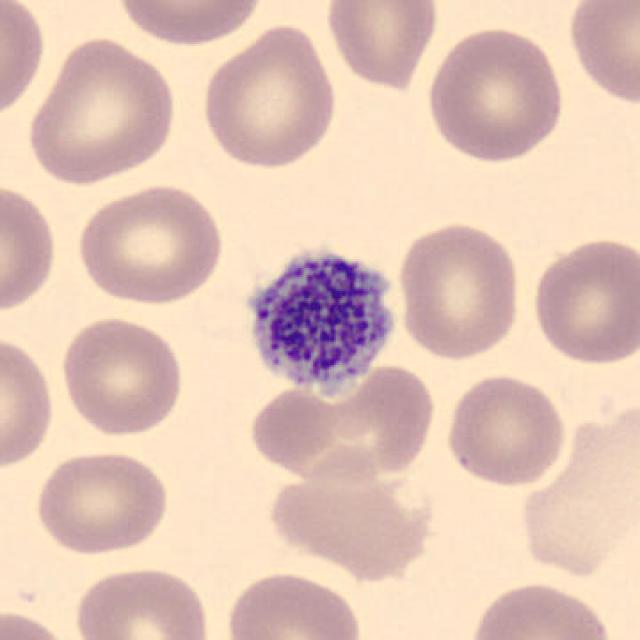Platelets: (231, 232, 409, 406)
RBC: (244, 356, 439, 490), (23, 32, 180, 188), (512, 398, 640, 584), (198, 19, 342, 171), (263, 458, 436, 584), (421, 21, 569, 164), (71, 180, 228, 307), (393, 217, 524, 363), (55, 312, 187, 439), (31, 446, 172, 557), (441, 370, 571, 490), (526, 232, 638, 368), (320, 0, 443, 92), (71, 562, 215, 640), (220, 567, 366, 640), (466, 578, 617, 640), (0, 176, 62, 319), (0, 330, 59, 476), (247, 384, 343, 471), (563, 0, 638, 109), (112, 0, 270, 48), (0, 0, 48, 125), (0, 606, 76, 640)
